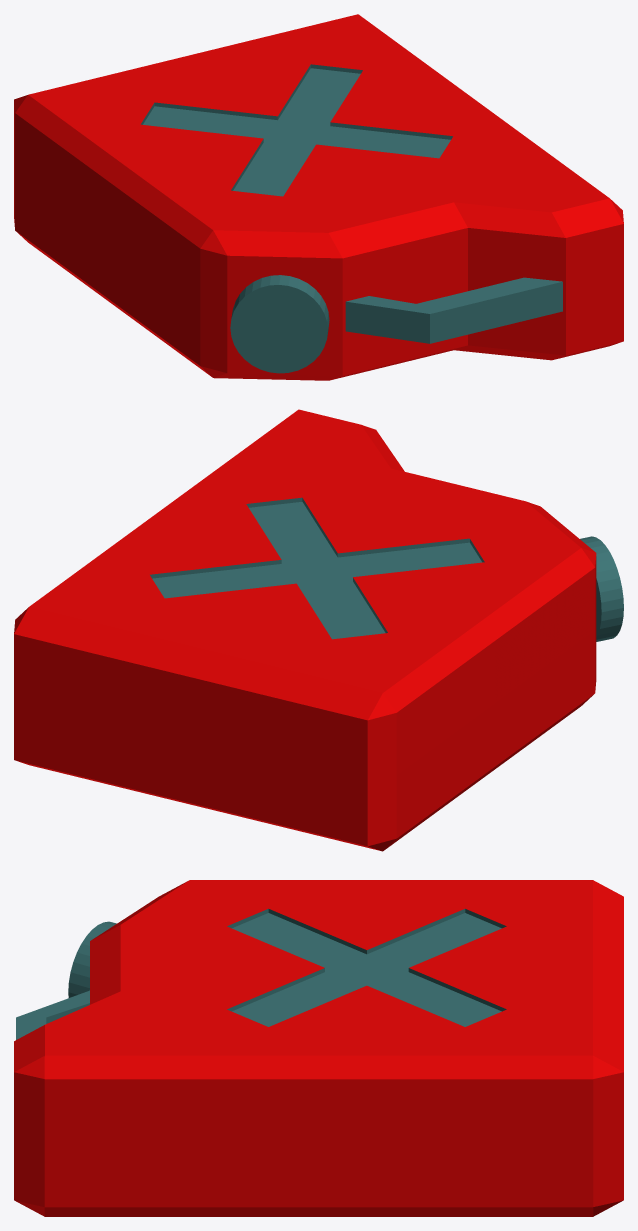
File: fuelCan.fbx
3 views of the same model, one above another, from view 1: azimuth 30°, elevation 25°; view 2: azimuth 150°, elevation 25°; view 3: azimuth 270°, elevation 25° (orthographic). The views are drawn at different scales.
Visible parts, largest first — view 1: Cube.002; view 2: Cube.002; view 3: Cube.002.
Part boxes in pixels (x1,y1,x2,y2): Cube.002: (14,14,623,380); Cube.002: (14,409,623,851); Cube.002: (14,880,623,1216).
Bounding box in the file's own units: 0.7475 × 0.2966 × 1.02.
